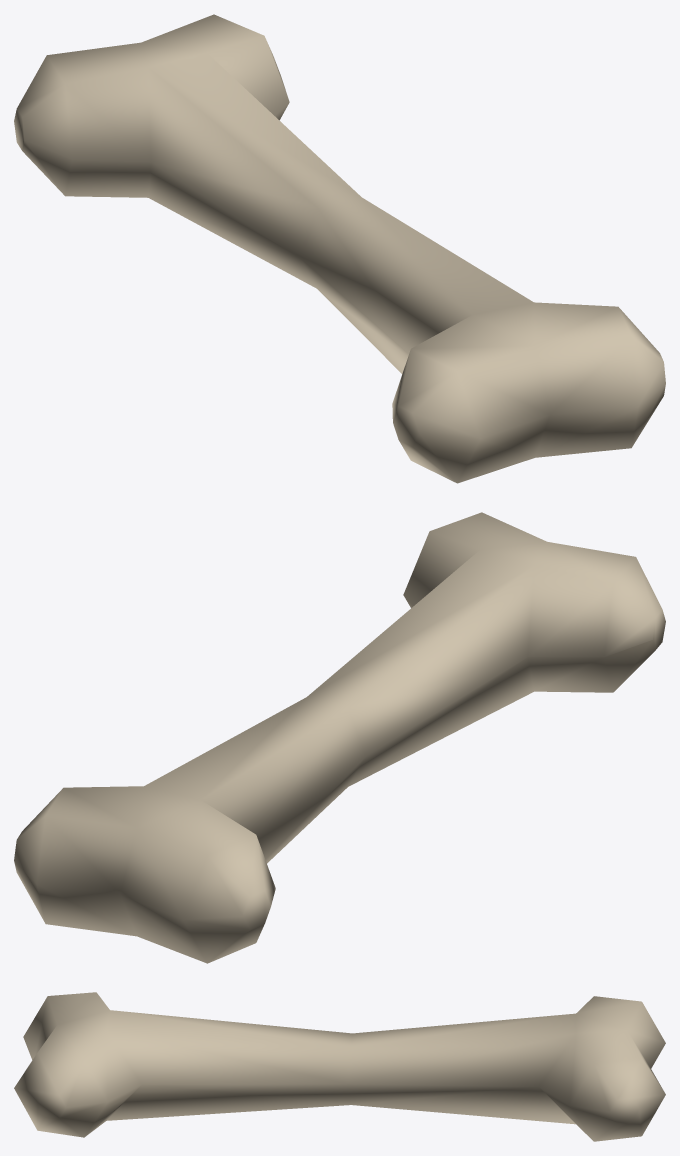
Rendered from ChickenLeg_V3.fbx.
3 renders of one model, top to bottom at view 1: azimuth 30°, elevation 25°; view 2: azimuth 150°, elevation 25°; view 3: azimuth 270°, elevation 25°, orthographic. The views are drawn at different scales.
Parts seen in each view (by area): view 1: ChickenLeg_V3; view 2: ChickenLeg_V3; view 3: ChickenLeg_V3.
Part boxes in pixels (x1,y1,x2,y2): ChickenLeg_V3: (14, 14, 665, 483); ChickenLeg_V3: (14, 512, 665, 963); ChickenLeg_V3: (14, 992, 665, 1141).
Size of the model in its own units: 0.0766 by 0.0355 by 0.2312.
